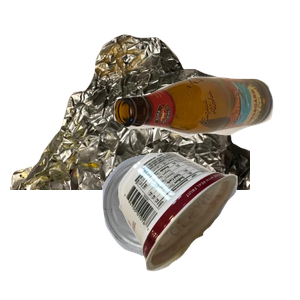glass: (111, 74, 300, 204)
metal: (10, 32, 250, 212)
plastic: (100, 152, 293, 300)
trash: (116, 149, 300, 300)
